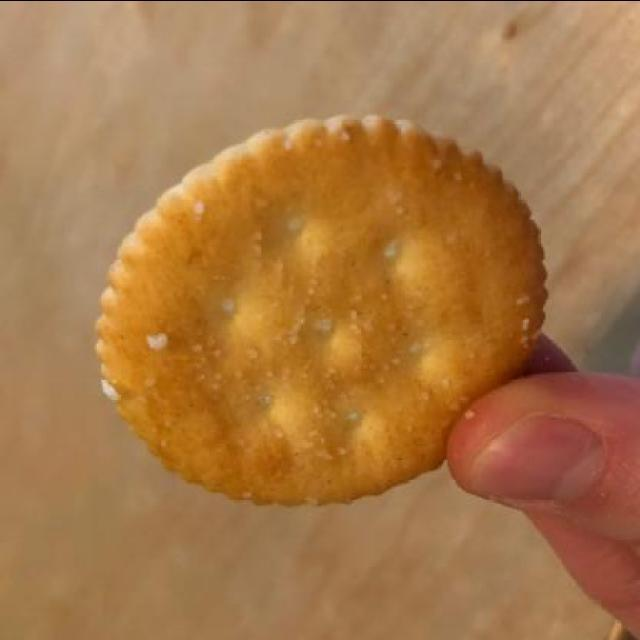Ritz cracker packaged: (93, 110, 550, 508)
